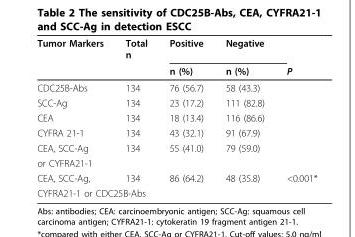table: (36, 36, 316, 198)
table column: (36, 36, 113, 198), (213, 36, 274, 198), (157, 36, 213, 198), (113, 36, 157, 198), (274, 36, 316, 198)
table column header: (36, 36, 316, 79)
table projected row header: (36, 155, 316, 170), (36, 185, 316, 198)
table row: (36, 36, 316, 62), (36, 62, 316, 79), (36, 124, 316, 140), (36, 79, 316, 94), (36, 94, 316, 109), (36, 109, 316, 124), (36, 140, 316, 155), (36, 155, 316, 170), (36, 170, 316, 185), (36, 185, 316, 198)
table spanning cell: (36, 36, 113, 79), (213, 36, 274, 79), (157, 36, 213, 79), (113, 36, 157, 79), (274, 36, 316, 79)
